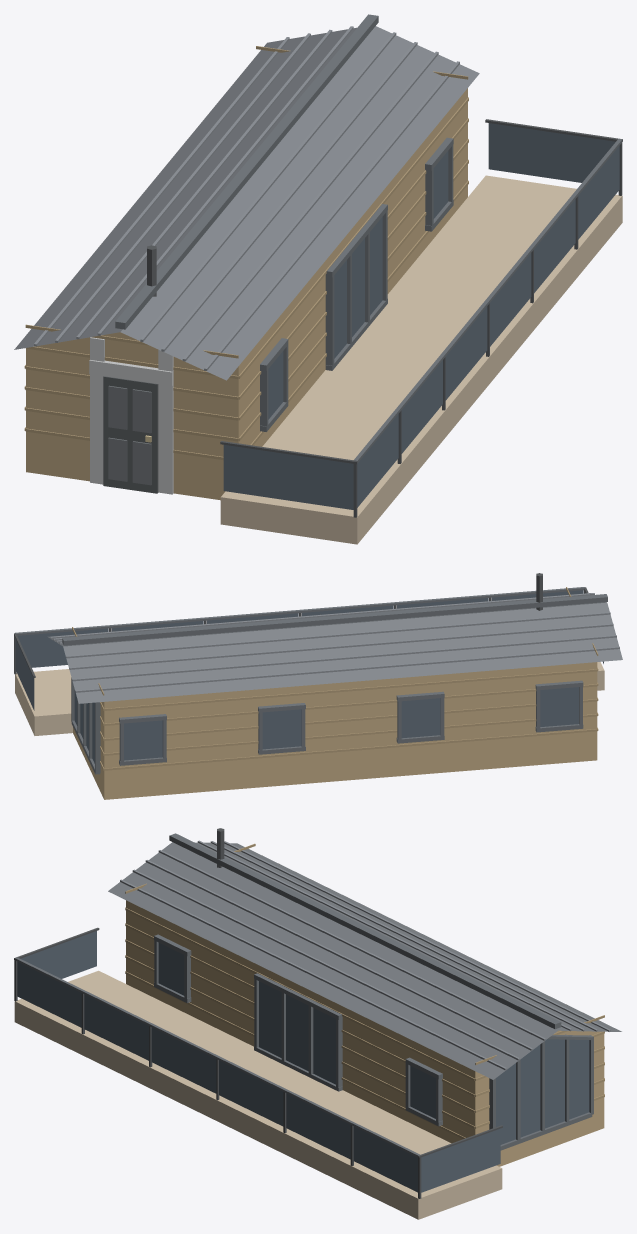
3 renders of one model, top to bottom at view 1: azimuth 30°, elevation 25°; view 2: azimuth 150°, elevation 25°; view 3: azimuth 270°, elevation 25°, orthographic. The views are drawn at different scales.
Parts seen in each view (by area): view 1: slate, larch, door_wood, slate_dk, slate_lt, door_wood_p, window_glass_007, stone_band, window_glass_008, door_dark_p, door_dark, pipe (+11 smaller); view 2: door_wood, slate, slate_dk, slate_lt, door_wood_p, larch, window_glass_016, window_glass_017, window_glass_006, window_glass_015, window_glass_018, window_glass_008 (+7 smaller); view 3: slate, larch, door_wood, slate_dk, slate_lt, window_glass_014, door_wood_p, window_glass_008, window_glass_003, window_glass_002, window_glass_005, window_glass_004 (+9 smaller).
Boxes of the visible parts, <box> form: slate: <box>14,26,479,380</box>; larch: <box>220,175,622,544</box>; door_wood: <box>26,88,467,500</box>; slate_dk: <box>115,14,622,463</box>; slate_lt: <box>34,26,459,370</box>; door_wood_p: <box>24,46,468,460</box>; window_glass_007: <box>223,445,353,509</box>; stone_band: <box>89,337,173,494</box>; window_glass_008: <box>488,123,615,182</box>; door_dark_p: <box>108,385,151,485</box>; door_dark: <box>103,376,158,493</box>; pipe: <box>147,119,622,517</box>; door_wood: <box>73,662,597,799</box>; slate: <box>47,593,622,703</box>; slate_dk: <box>15,587,607,774</box>; slate_lt: <box>50,593,619,692</box>; door_wood_p: <box>72,587,598,770</box>; larch: <box>15,662,604,735</box>; window_glass_016: <box>262,709,301,749</box>; window_glass_017: <box>401,698,440,738</box>; window_glass_006: <box>17,628,108,667</box>; window_glass_015: <box>124,720,162,760</box>; window_glass_018: <box>540,687,578,726</box>; window_glass_008: <box>15,639,34,710</box>; slate: <box>108,842,621,1079</box>; larch: <box>14,970,502,1219</box>; door_wood: <box>126,855,604,1166</box>; slate_dk: <box>14,833,593,1157</box>; slate_lt: <box>120,840,610,1070</box>; window_glass_014: <box>496,1039,589,1144</box>; door_wood_p: <box>125,843,604,1138</box>; window_glass_008: <box>421,1128,500,1192</box>; window_glass_003: <box>151,1027,216,1093</box>; window_glass_002: <box>84,994,148,1060</box>; window_glass_005: <box>286,1093,350,1159</box>; window_glass_004: <box>219,1060,283,1126</box>.
Size of the model in its own units: 13.93 by 3.96 by 13.18.
